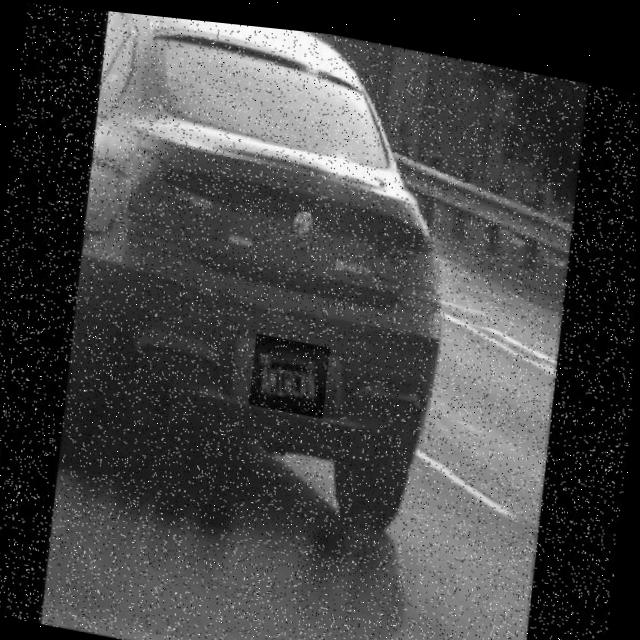LicensePlate: (250, 327, 331, 411)
